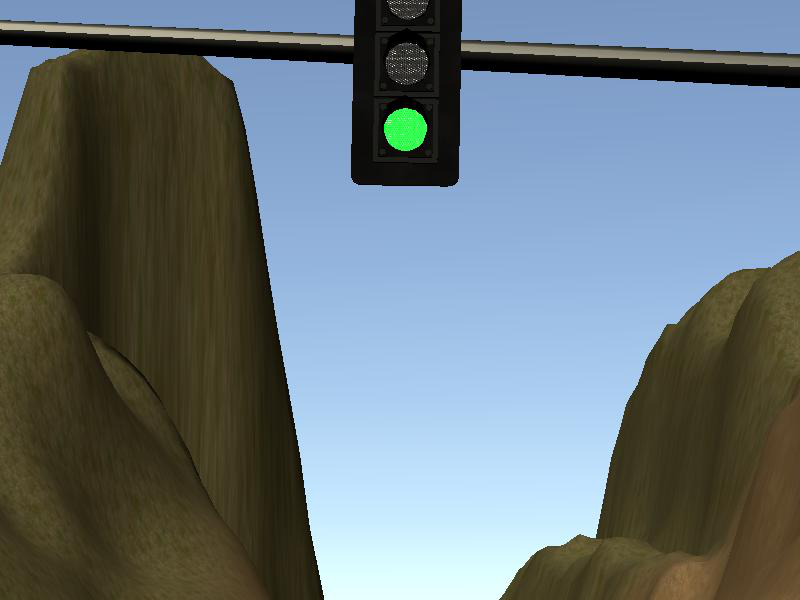green: (352, 1, 463, 185)
